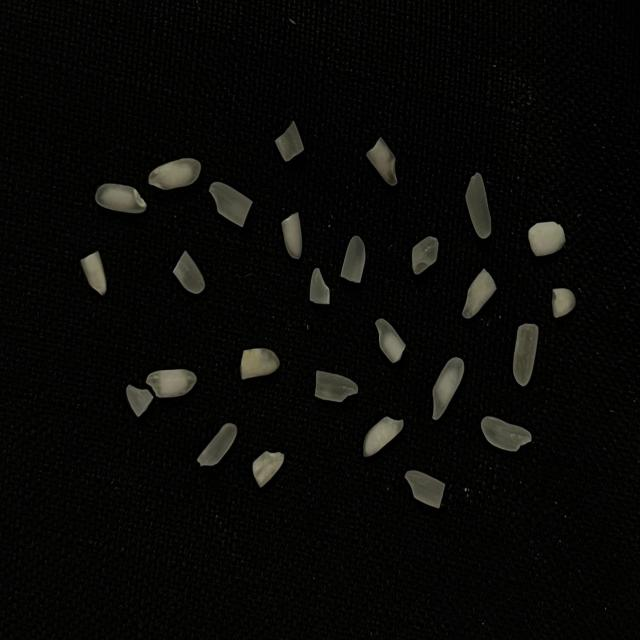Broken: (209, 181, 253, 229), (462, 268, 497, 320), (465, 173, 492, 239), (512, 323, 538, 386), (404, 470, 446, 509), (366, 136, 398, 186), (172, 250, 205, 295), (375, 317, 406, 363), (315, 370, 358, 403), (80, 249, 108, 297), (528, 221, 565, 257), (240, 348, 280, 380), (340, 235, 366, 284), (274, 120, 304, 162), (252, 450, 285, 488), (411, 235, 439, 275), (282, 211, 302, 261), (126, 384, 154, 417), (552, 288, 577, 318), (310, 268, 330, 304)
Full: (432, 356, 465, 421), (482, 416, 532, 453), (197, 422, 238, 467), (148, 157, 202, 190), (363, 416, 404, 457), (95, 182, 147, 214), (146, 368, 197, 398)
